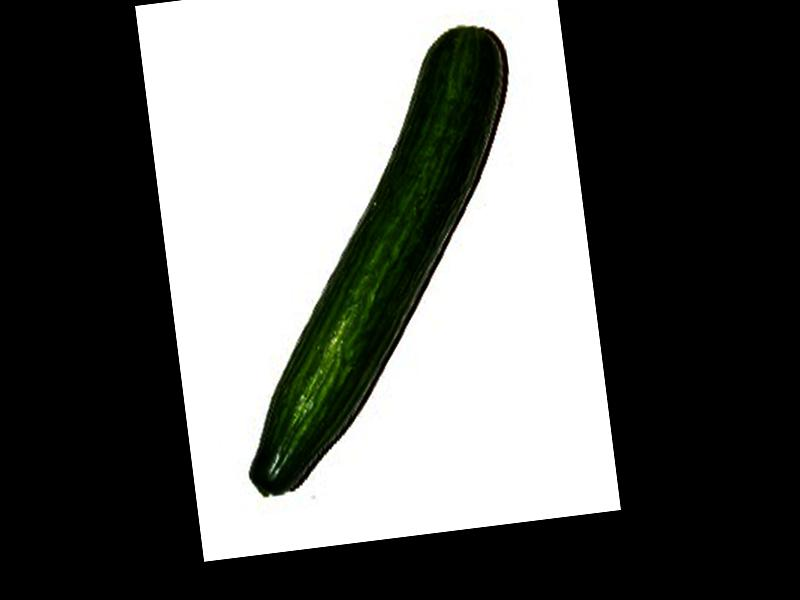Cucumber: (198, 22, 555, 498)
